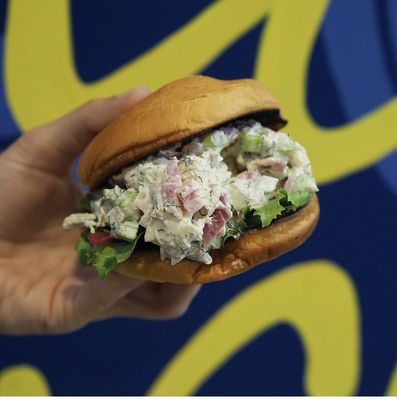curry: (62, 185, 145, 281)
